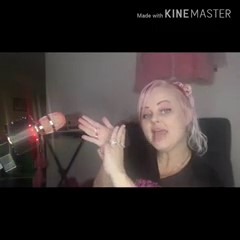M: (73, 109, 135, 177)
